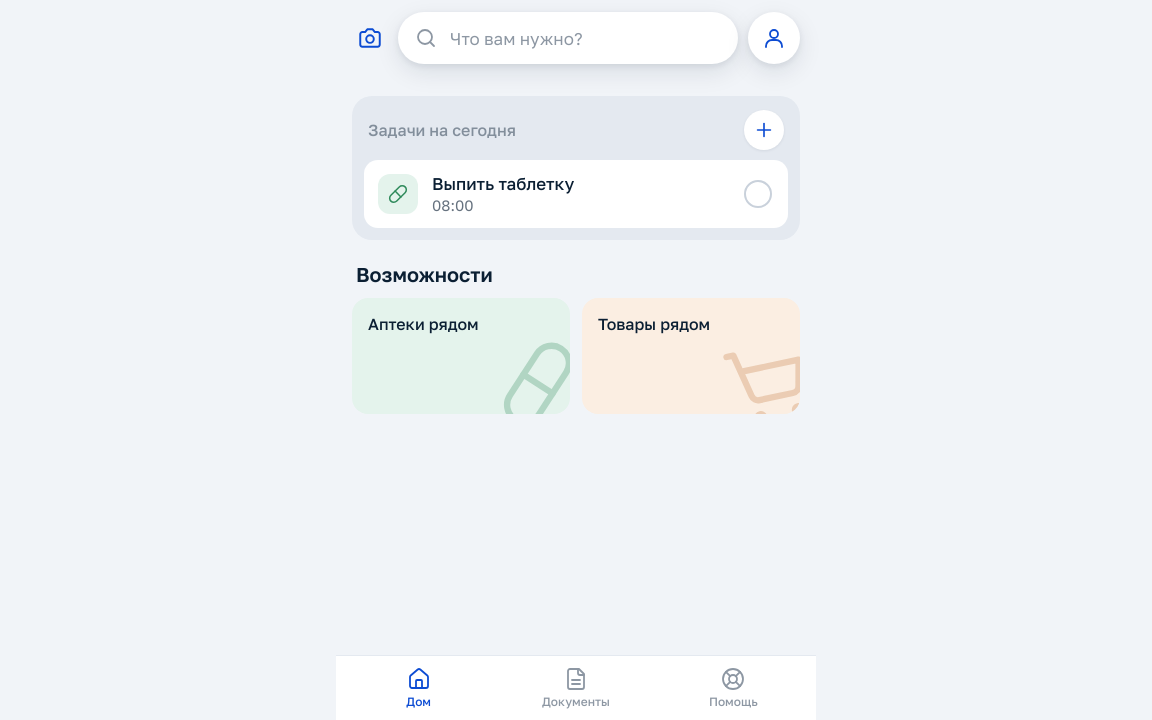
Test: App › профиль открывается поверх экрана, после сохранения аптеки перезагружаются
Click the button "Аптеки рядом": click(461, 356) x1=352 y1=298 x2=570 y2=414
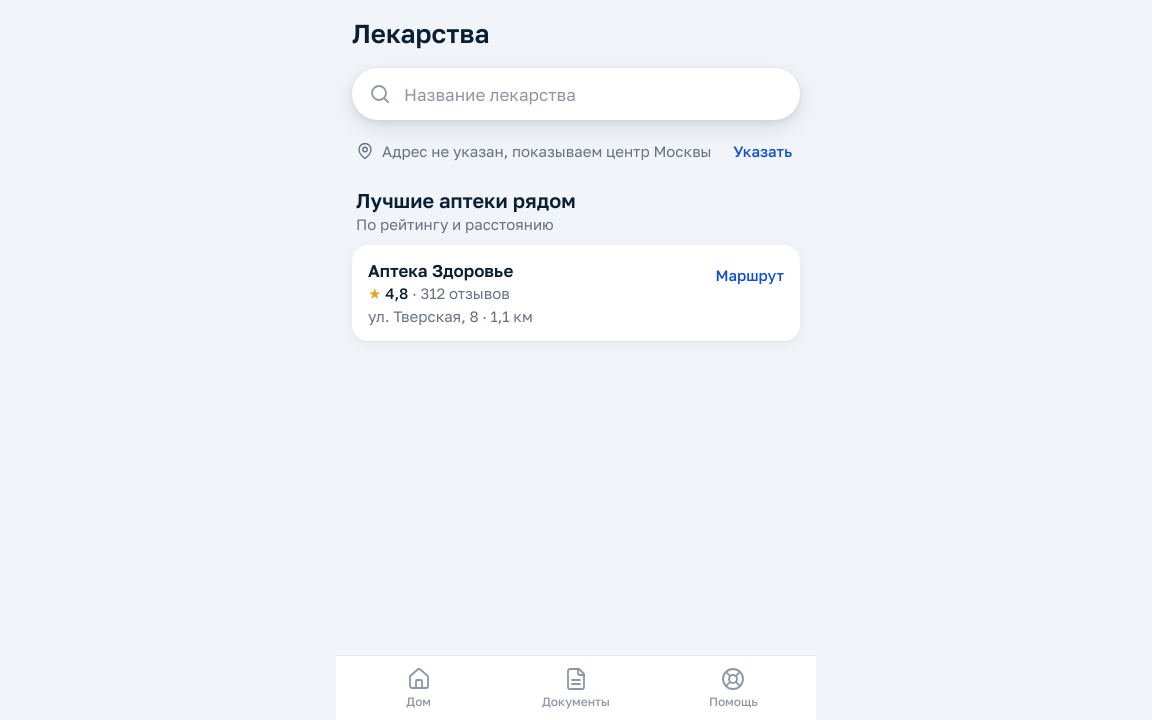
Check: the text "Аптека Здоровье" is shown, box x1=368 y1=260 x2=513 y2=281
Click the button "Указать": click(763, 151) x1=729 y1=134 x2=796 y2=168
(page scrolled)
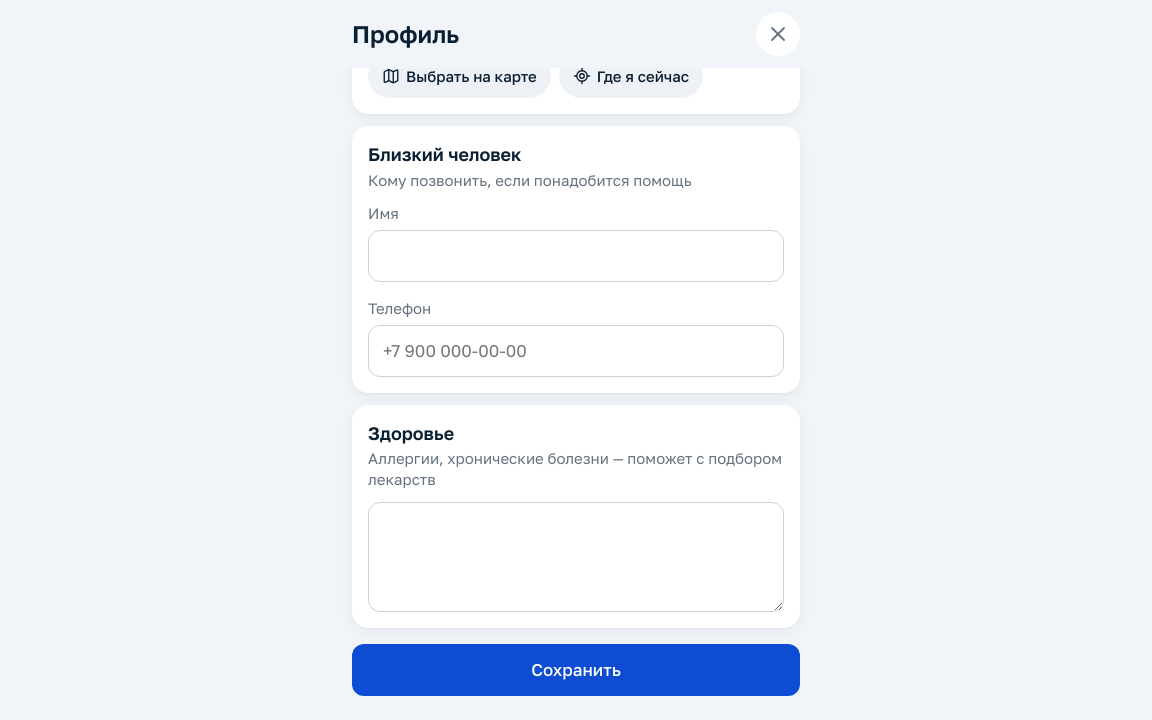
Check: the dialog "Профиль" is shown
Click the button "Сохранить": click(576, 670) x1=352 y1=644 x2=800 y2=696
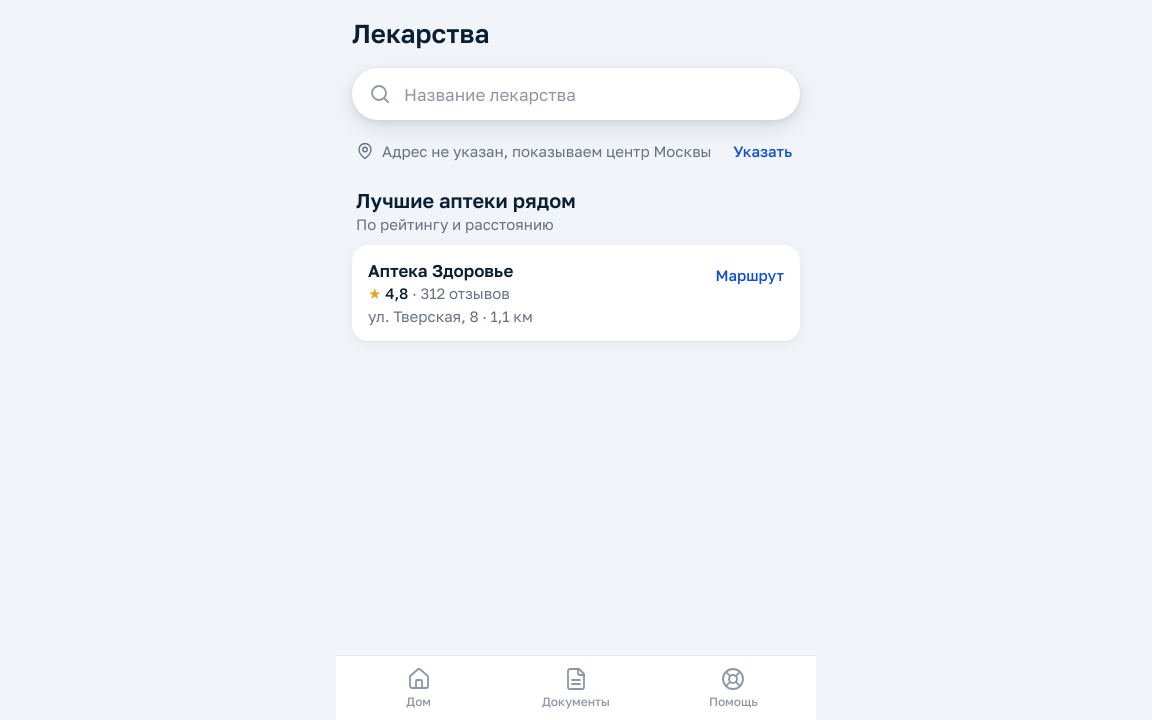
Check: the text "Аптека Здоровье" is shown, box x1=368 y1=260 x2=513 y2=281
Check: the heading "Профиль" is gone
